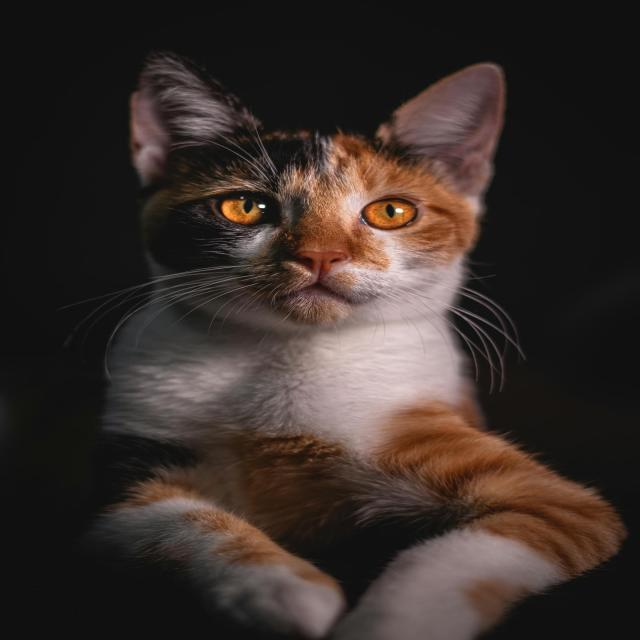Cat: (62, 51, 628, 638)
